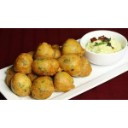bonda: (61, 53, 92, 77), (33, 75, 54, 99), (12, 52, 33, 74), (12, 73, 32, 96), (33, 59, 61, 74), (56, 73, 76, 90), (63, 37, 83, 53), (37, 42, 56, 58)
